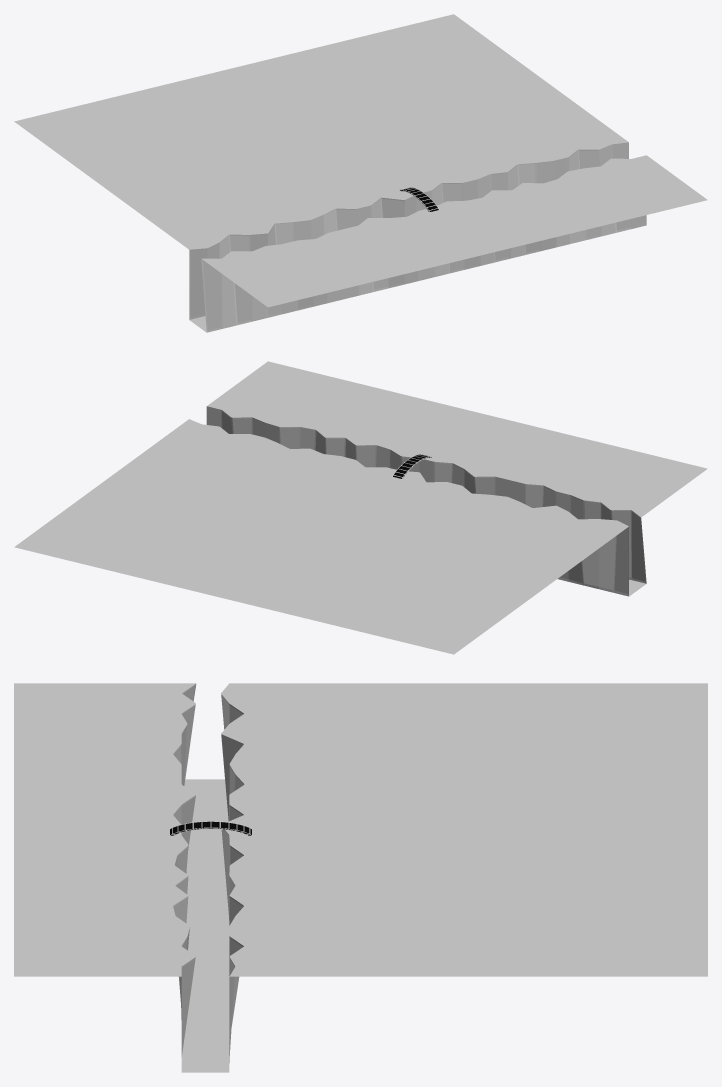
The model's file is Landscape.dae.
The picture shows the model from 3 angles, top to bottom: view 1: azimuth 30°, elevation 25°; view 2: azimuth 150°, elevation 25°; view 3: azimuth 270°, elevation 25°; orthographic projection. The views are drawn at different scales.
Parts seen in each view (by area): view 1: Grid; view 2: Grid; view 3: Grid, Cylinder.
Boxes of the visible parts, left/top/right/bottom form: Grid: left=14, top=14, right=707, bottom=332; Grid: left=14, top=361, right=707, bottom=654; Grid: left=14, top=683, right=707, bottom=1072; Cylinder: left=170, top=821, right=252, bottom=835.
Size of the model in its own units: 35.54 by 35.54 by 5.86.
2 materials, 1 textured.
